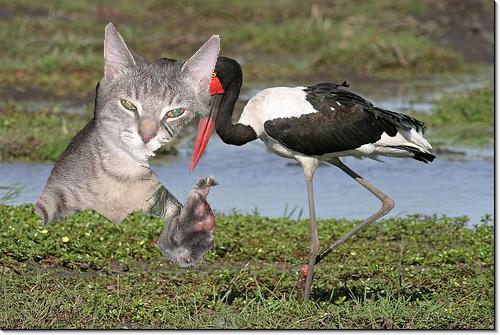tampered: (35, 23, 220, 267)
